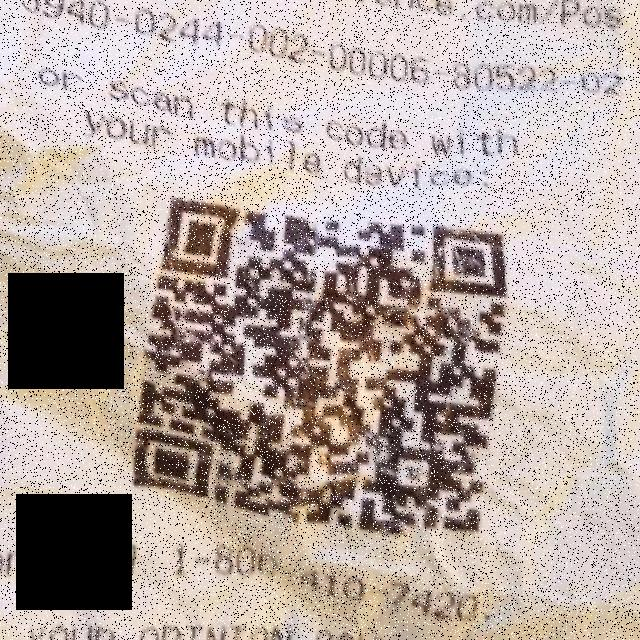QR_CODE: (119, 178, 515, 546)
